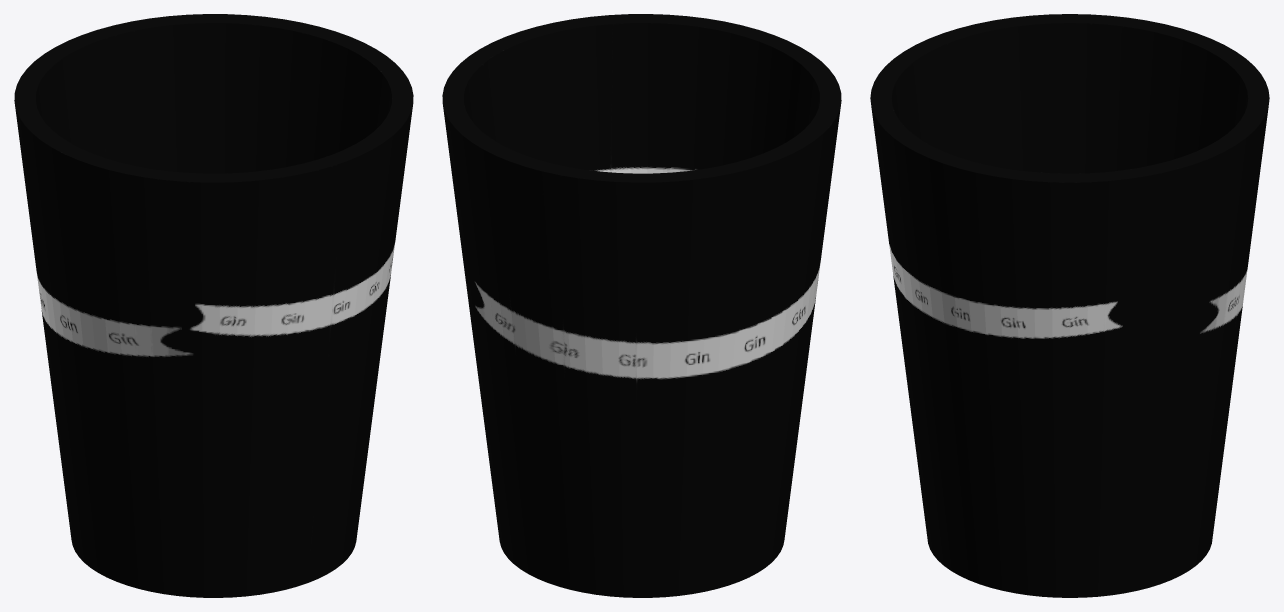
The model's file is gin-glass.glb.
3 views of the same model, side by side, from view 1: azimuth 30°, elevation 25°; view 2: azimuth 150°, elevation 25°; view 3: azimuth 270°, elevation 25° (orthographic).
Parts seen in each view (by area): view 1: node_id3; view 2: node_id3; view 3: node_id3.
Part boxes in pixels (x1=…): node_id3: x1=14, y1=14, x2=413, y2=597; node_id3: x1=442, y1=14, x2=841, y2=597; node_id3: x1=870, y1=14, x2=1269, y2=597.
Size of the model in its own units: 0.4216 by 0.512 by 0.4216.
1 material, 1 textured.
